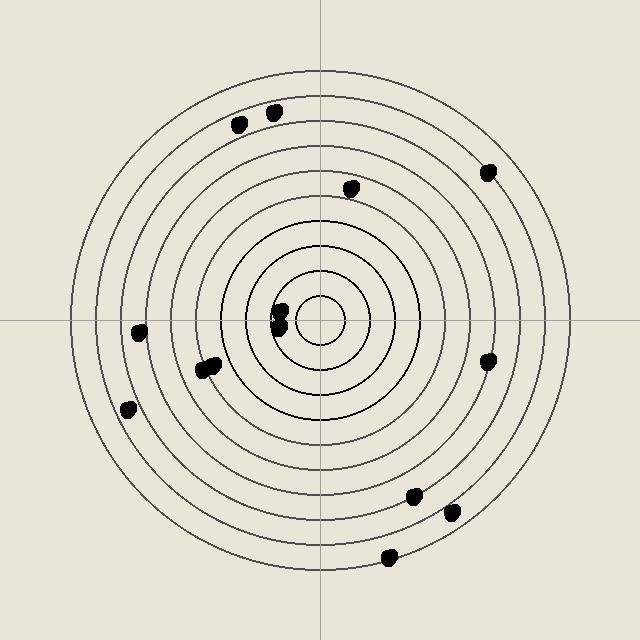random_scatter: (477, 162, 497, 182), (269, 301, 289, 321), (228, 114, 248, 134), (268, 317, 288, 337), (117, 399, 137, 419), (192, 359, 212, 379), (263, 102, 283, 122), (202, 355, 222, 375), (403, 486, 423, 506), (477, 351, 497, 371), (128, 322, 148, 342), (340, 178, 360, 198), (441, 502, 461, 522), (378, 547, 398, 567)
